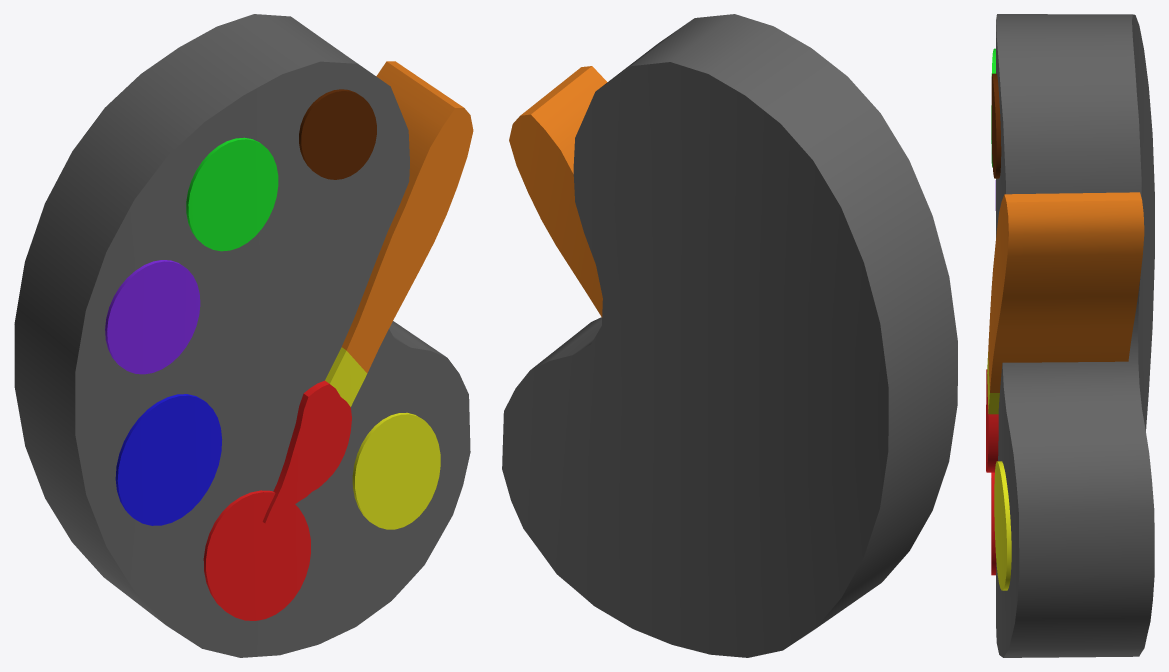
Rendered from Palette_Inner.fbx.
3 renders of one model, left to right at view 1: azimuth 30°, elevation 25°; view 2: azimuth 150°, elevation 25°; view 3: azimuth 270°, elevation 25°, orthographic. The views are drawn at different scales.
Visible parts, largest first — view 1: Palette_Inner; view 2: Palette_Inner; view 3: Palette_Inner.
Part boxes in pixels (<box>): Palette_Inner: <box>14,14,473,657</box>; Palette_Inner: <box>502,14,957,657</box>; Palette_Inner: <box>986,14,1154,657</box>.
Bounding box in the file's own units: 23.76 × 33.52 × 8.44.
